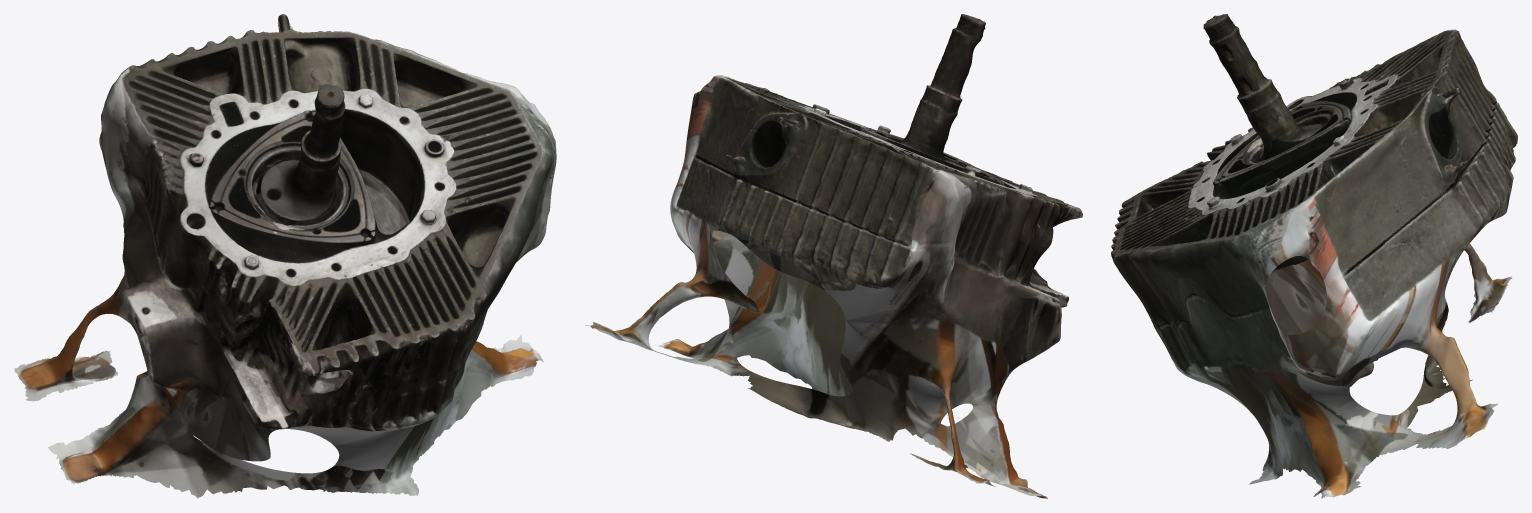
Rendered from wankel-engine.glb.
The picture shows the model from 3 angles, left to right: view 1: azimuth 30°, elevation 25°; view 2: azimuth 150°, elevation 25°; view 3: azimuth 270°, elevation 25°; orthographic projection. The views are drawn at different scales.
Visible parts, largest first — view 1: mainMeshNode; view 2: mainMeshNode; view 3: mainMeshNode.
Part boxes in pixels (x1,y1,x2,y2): mainMeshNode: [14, 14, 556, 498]; mainMeshNode: [585, 14, 1082, 498]; mainMeshNode: [1111, 14, 1517, 498].
Size of the model in its own units: 1.72 by 1.62 by 1.42.
1 material, 1 textured.
